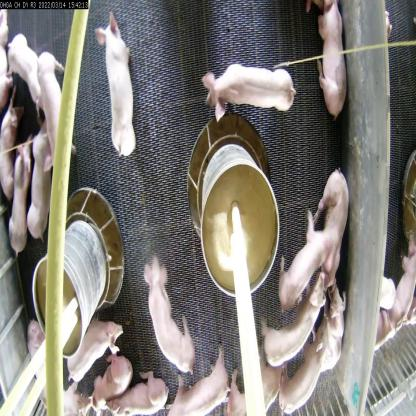Pig: (98, 7, 142, 173), (204, 50, 296, 128), (148, 252, 199, 381), (34, 43, 78, 182), (280, 208, 336, 312), (28, 119, 64, 259), (268, 276, 324, 364), (312, 0, 351, 120), (59, 313, 121, 387), (319, 154, 351, 292), (8, 140, 44, 260), (4, 24, 51, 108), (283, 327, 327, 416), (232, 347, 289, 415), (170, 353, 229, 416), (0, 89, 30, 201), (90, 348, 130, 401), (117, 373, 162, 415), (327, 293, 344, 385)
